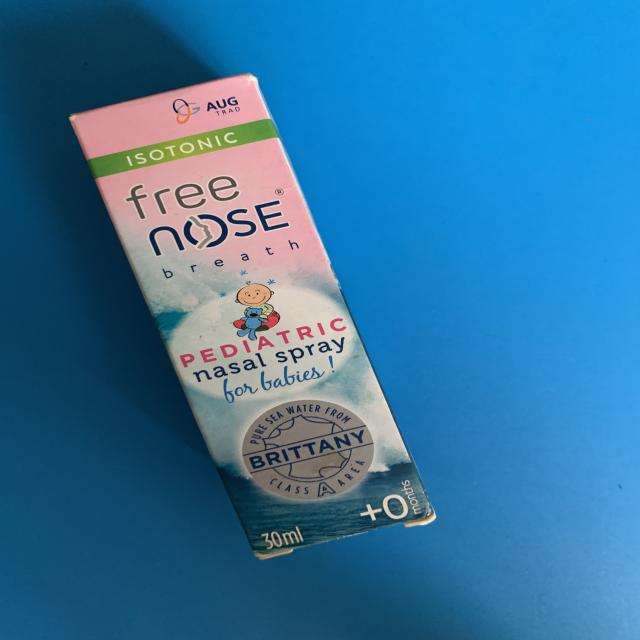Free Nose: (58, 74, 443, 576)
